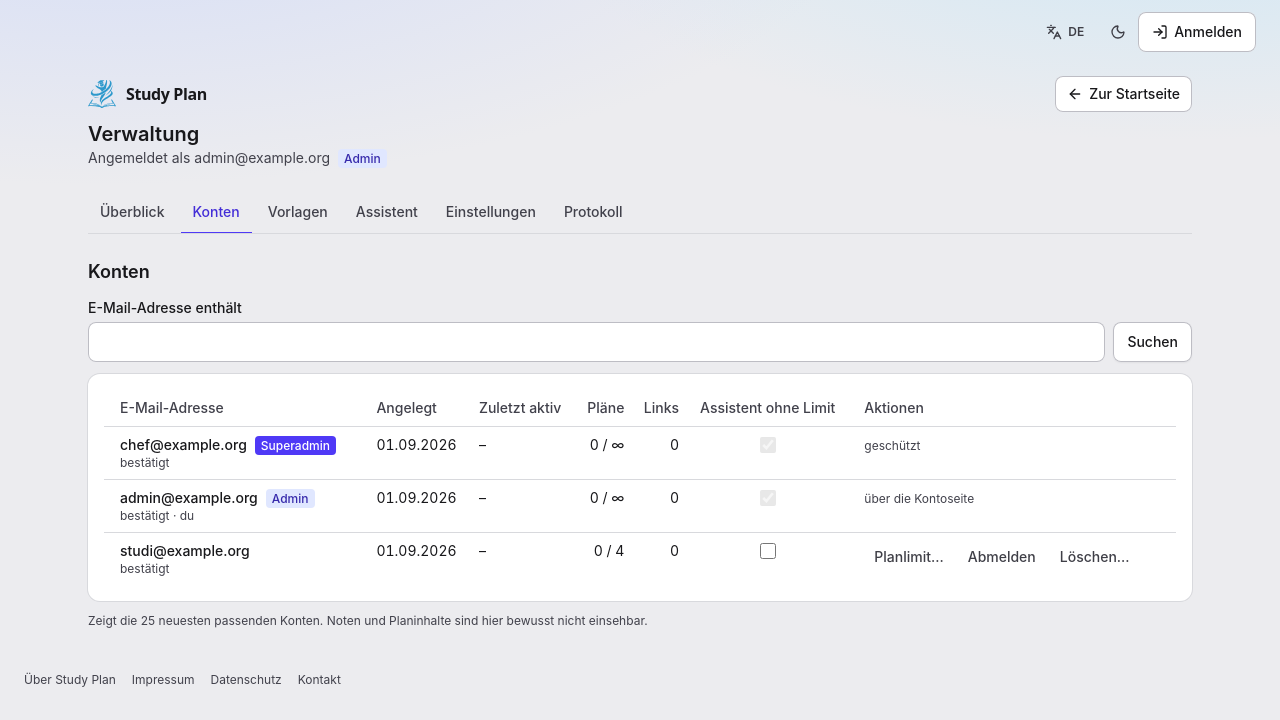
Scenario: admin roles in the dashboard › lets an admin lift the assistant’s daily limit for one account
Expected: the text "studi@example.org" is shown, [120,542,250,559]
Click the checkbox named "Assistent ohne Tageslimit für studi@example.org" at (768, 551), box [760,543,776,559]
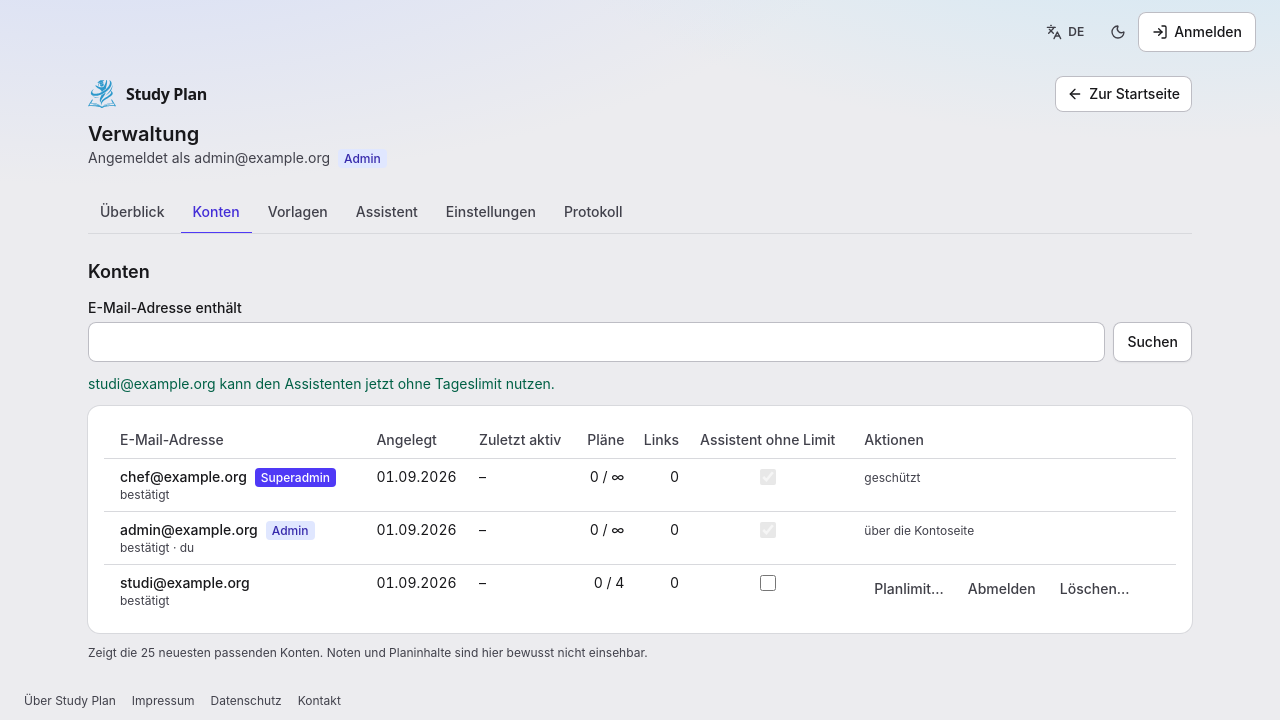
Expected: the text "studi@example.org kann den Assistenten jetzt ohne Tageslimit nutzen." is shown, [88,375,555,392]
